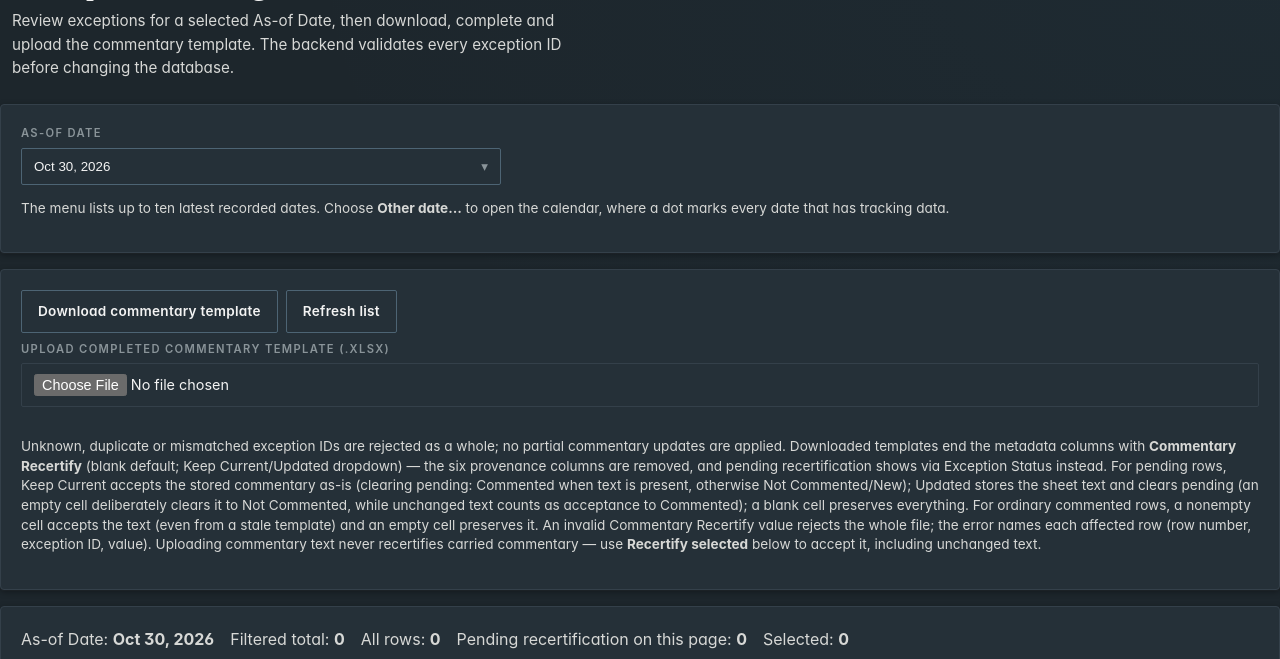
ExceptionTrackingPage › selects an older marked date through Other date and loads its no-data state
The width and height of the screenshot is (1280, 659).
Click the button with aria-label "As-of Date, selected": x=72, y=166 [21,148,501,185]
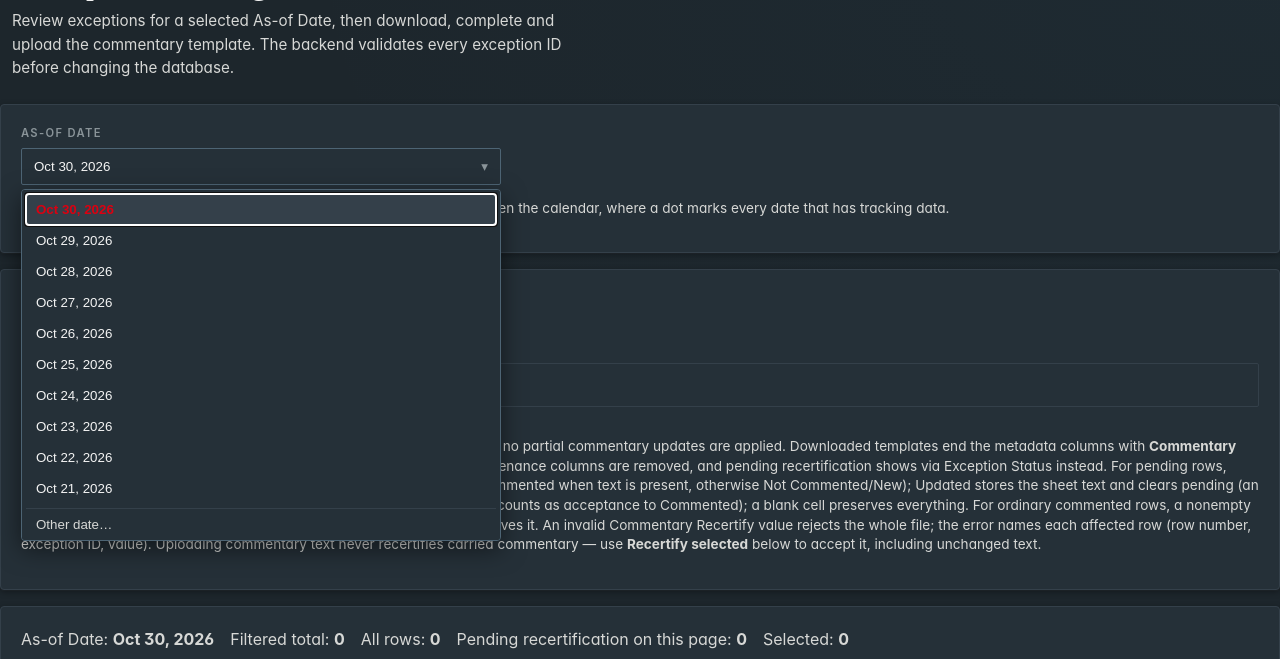
Click the option "Other date…": x=74, y=525 [26,508,496,540]
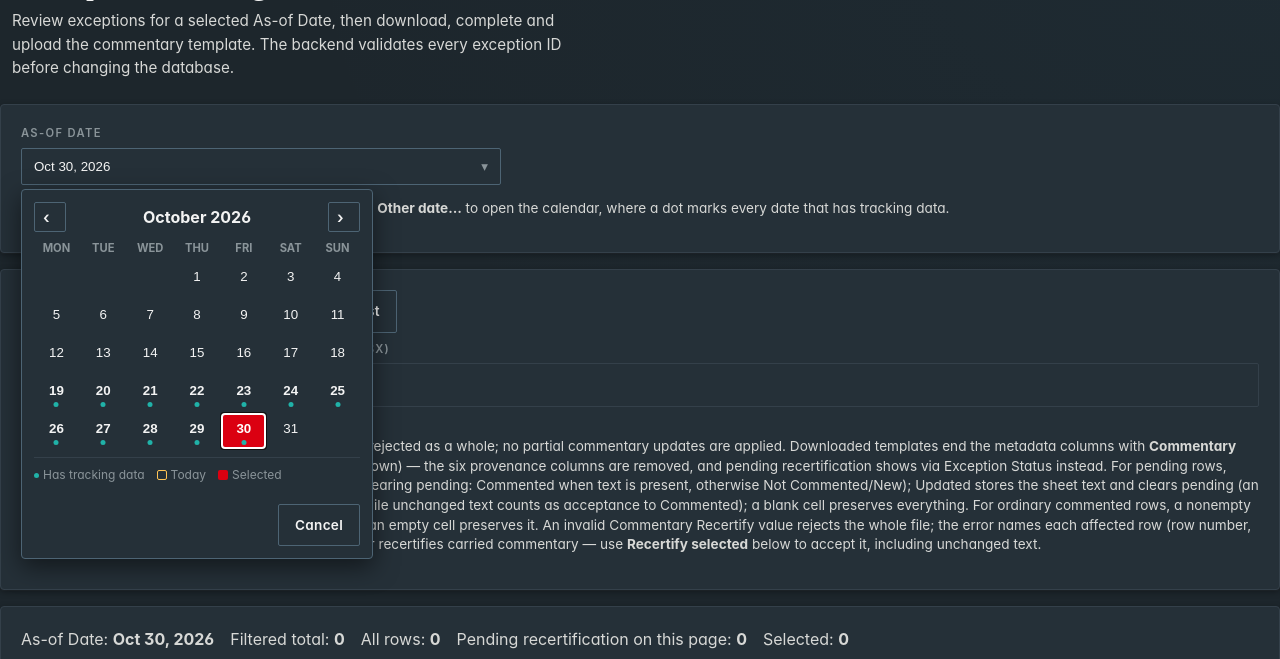
Click the button named "19, 2026, has tracking data": x=56, y=393 [34,375,79,411]
(page scrolled)
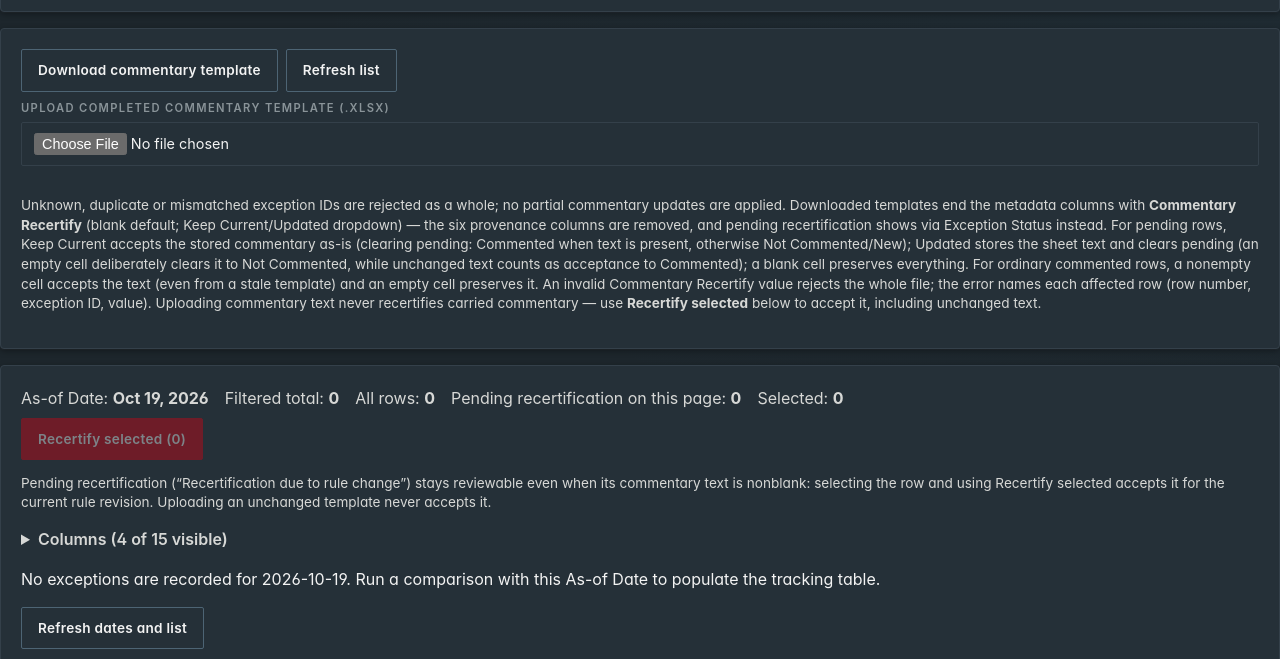
Expected: the text "No exceptions are recorded for 2026-10-19" is shown, [21,569,880,589]
